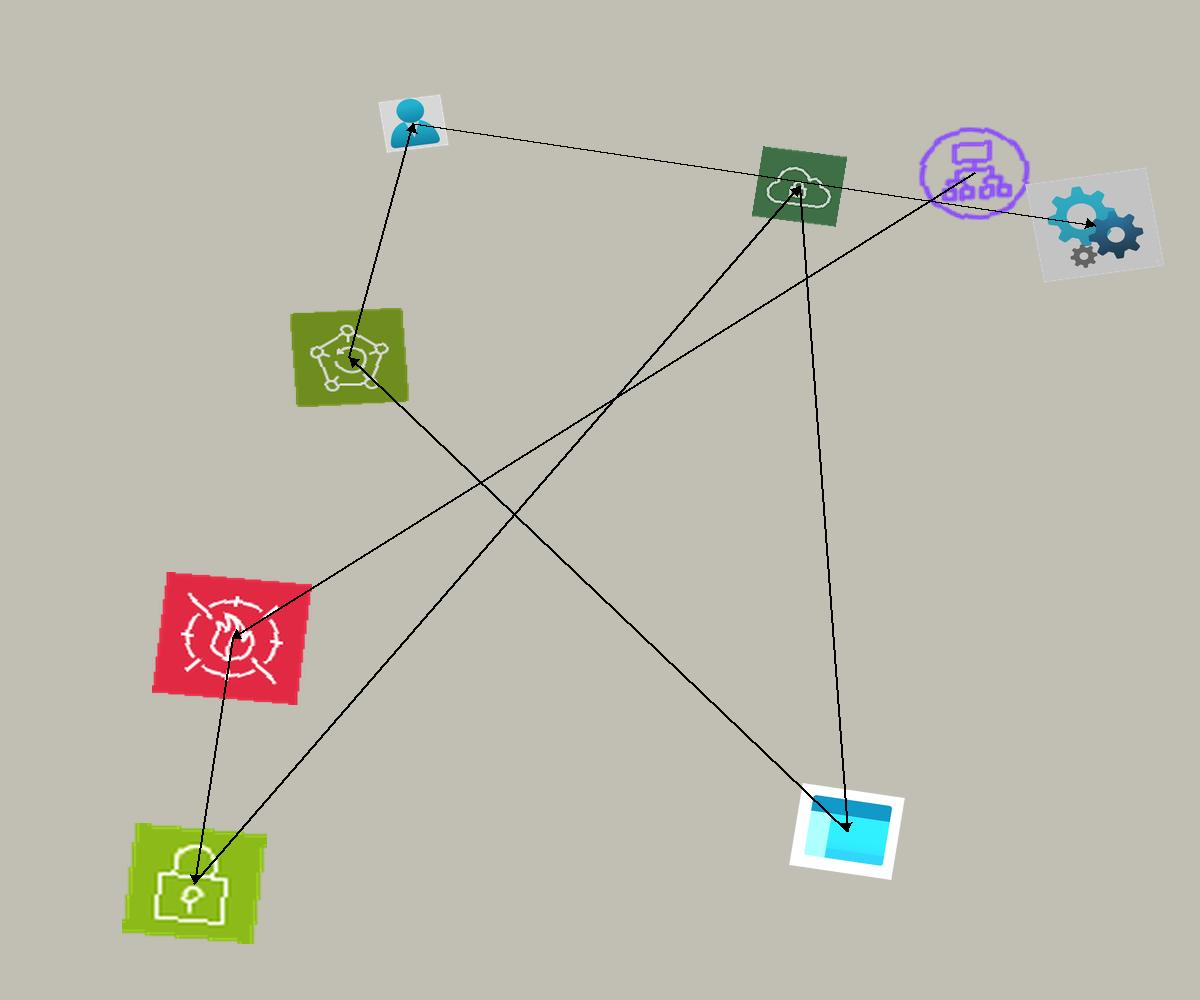AWS-Backup: (289, 307, 410, 408)
AWS-Private_vpc: (751, 146, 848, 227)
AWS-Public-subnet: (122, 823, 267, 944)
AWS-Res_Elastic-Load-Balancing_Application-Load-Balancer: (907, 117, 1042, 230)
AWS-WAF: (152, 572, 312, 705)
Azure_api: (1025, 167, 1165, 283)
Azure_management-portal: (789, 783, 905, 880)
Azure_users: (378, 94, 449, 153)
